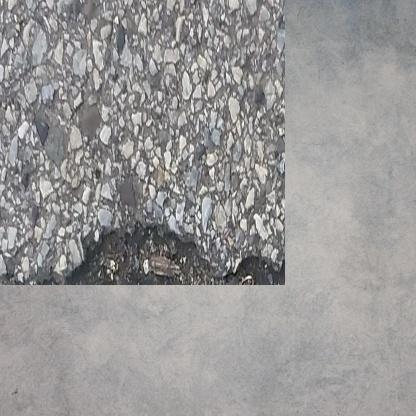Cracks: (43, 211, 264, 263)
